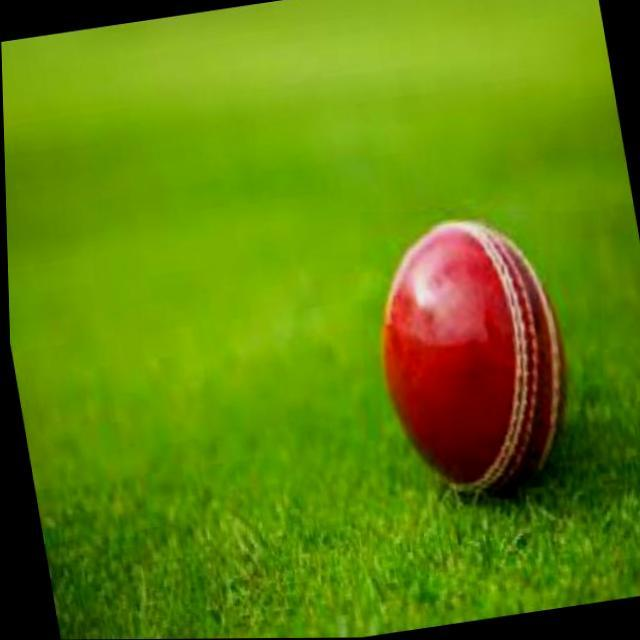-: (358, 212, 604, 535)
